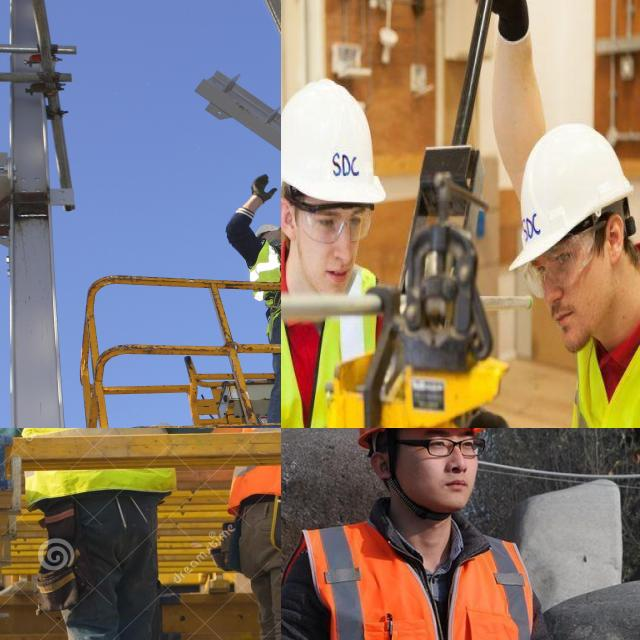No_Ear-Protection: (602, 206, 625, 269), (366, 446, 395, 484), (281, 192, 293, 243)
face_nomask: (528, 248, 610, 349), (291, 194, 368, 298), (389, 428, 488, 505)
glasses: (516, 230, 593, 300), (292, 194, 372, 249), (419, 431, 490, 464)
hand_glove: (456, 406, 525, 428), (245, 173, 281, 207)
head_helmet: (504, 120, 636, 264), (281, 77, 384, 204), (252, 221, 281, 235)
person: (281, 428, 623, 640), (281, 76, 400, 428), (10, 428, 172, 640), (526, 127, 640, 428), (228, 169, 281, 419)
vest: (319, 523, 524, 640), (281, 268, 388, 428), (13, 428, 181, 492), (251, 238, 281, 309)
